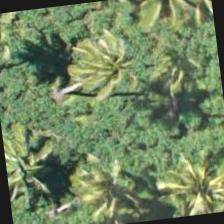Kelapa_Sawit: (44, 29, 144, 129), (128, 19, 223, 120), (46, 144, 146, 223), (0, 117, 70, 214), (150, 153, 223, 220)
